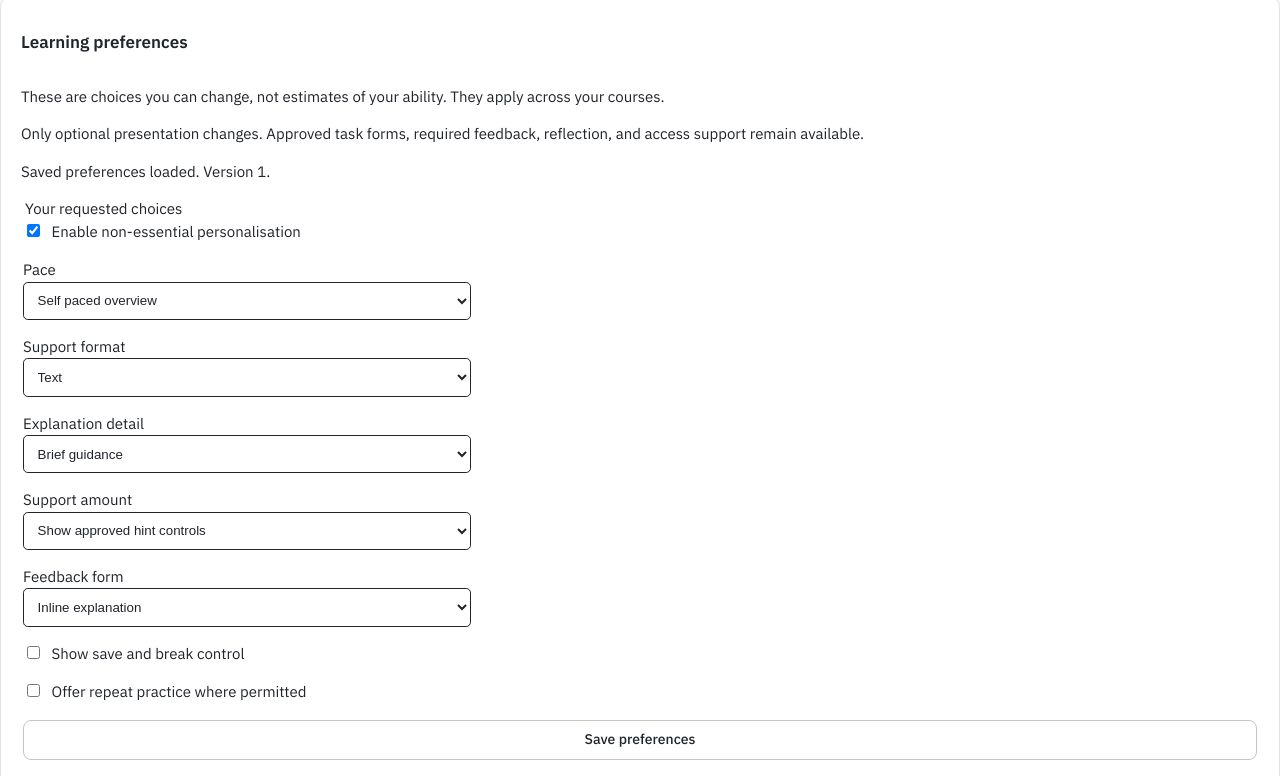
it: restores settings, keeps failed draft and request key, saves and resets without erasing history
expect the text "Saved preferences loaded. Version 1." is shown: met, box [21, 162, 270, 181]
Step 1. Select "Stepwise workspace guide" in the dropdown labelled "Pace" → coordinates (247, 301), box [23, 282, 471, 320]
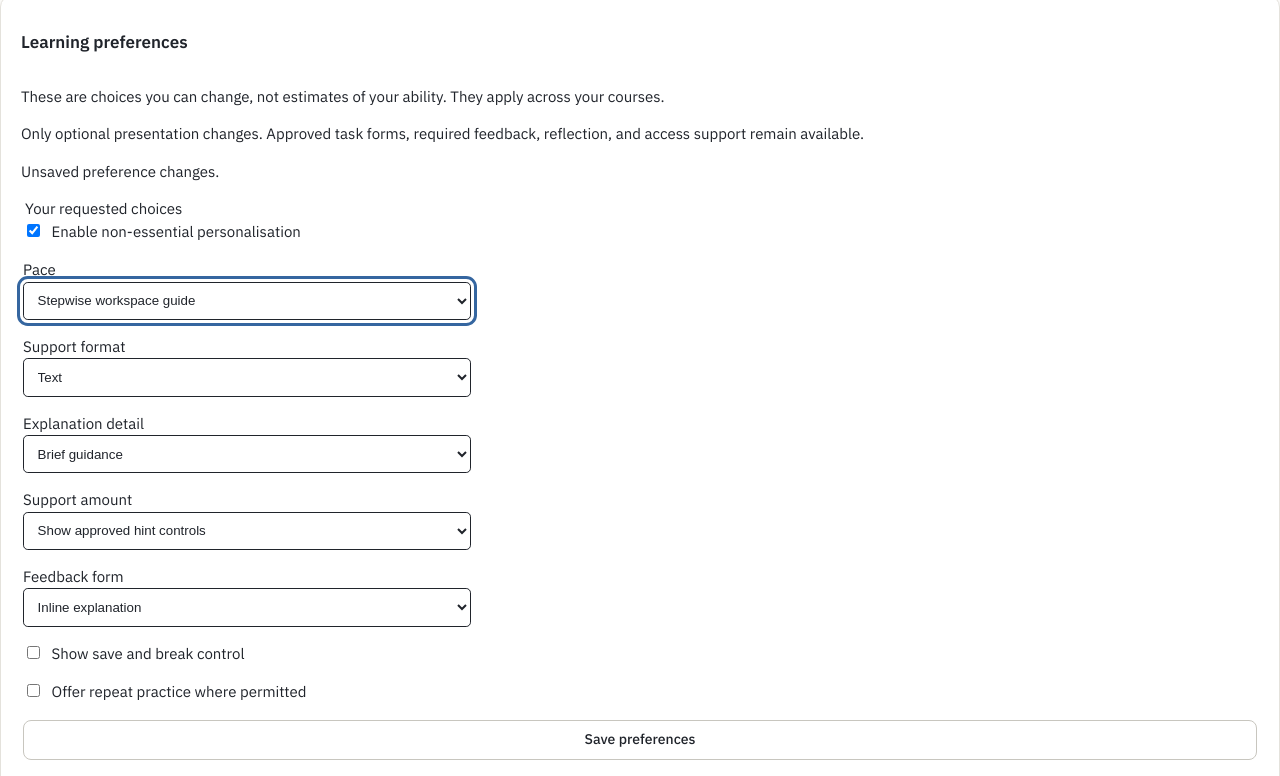
Step 2. Click the button "Save preferences" → coordinates (640, 740), box [23, 720, 1257, 760]
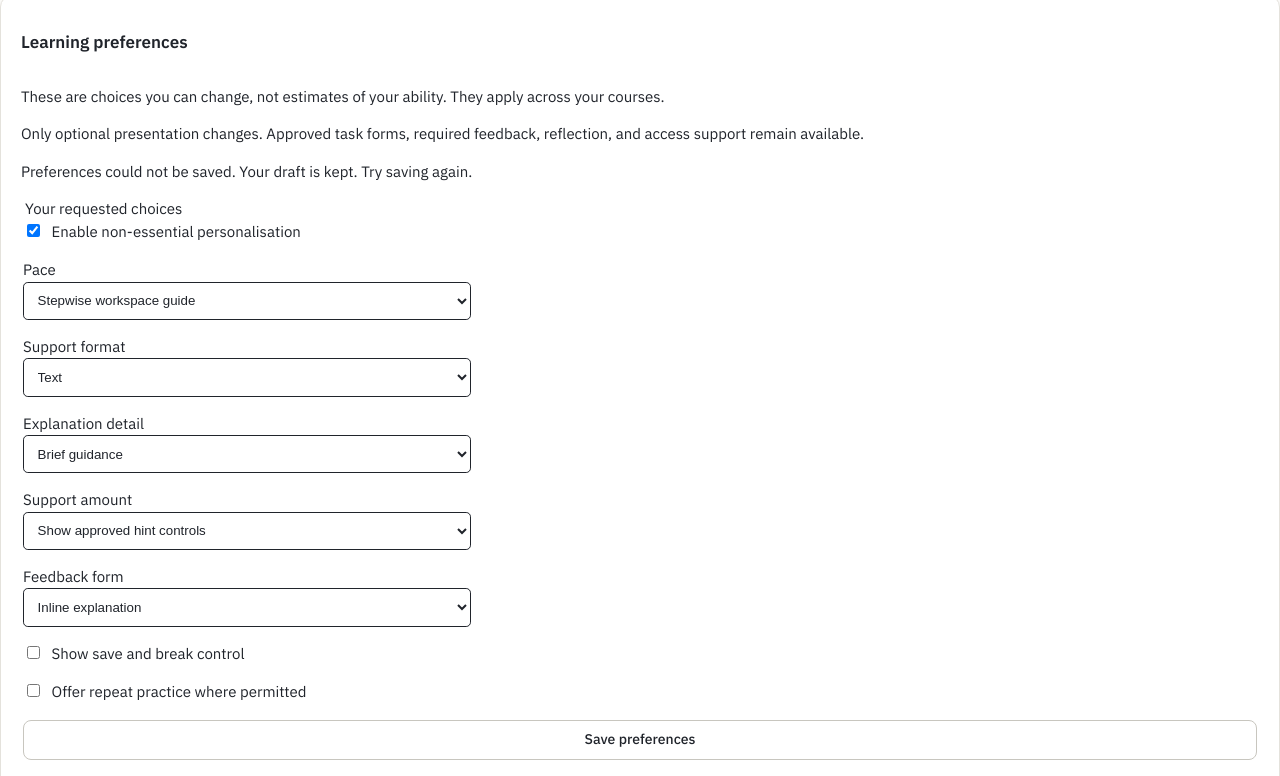
expect the text "Preferences could not be saved. Your draft is kept. Try saving again." is shown: met, box [21, 162, 472, 181]
Step 3. Click the button "Save preferences" → coordinates (640, 740), box [23, 720, 1257, 760]
(page scrolled)
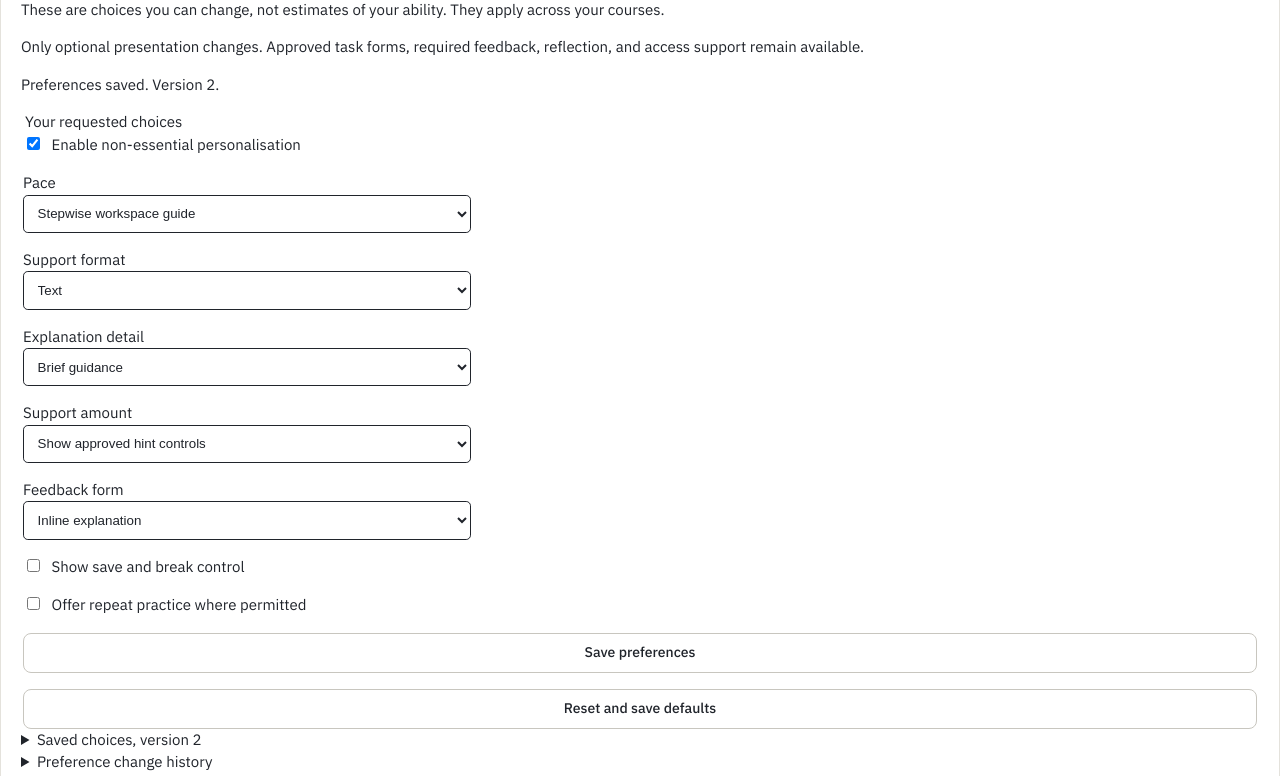
expect the text "Preferences saved. Version 2." is shown: met, box [21, 75, 219, 94]
Step 4. Click the button "Reset and save defaults" → coordinates (640, 709), box [23, 689, 1257, 729]
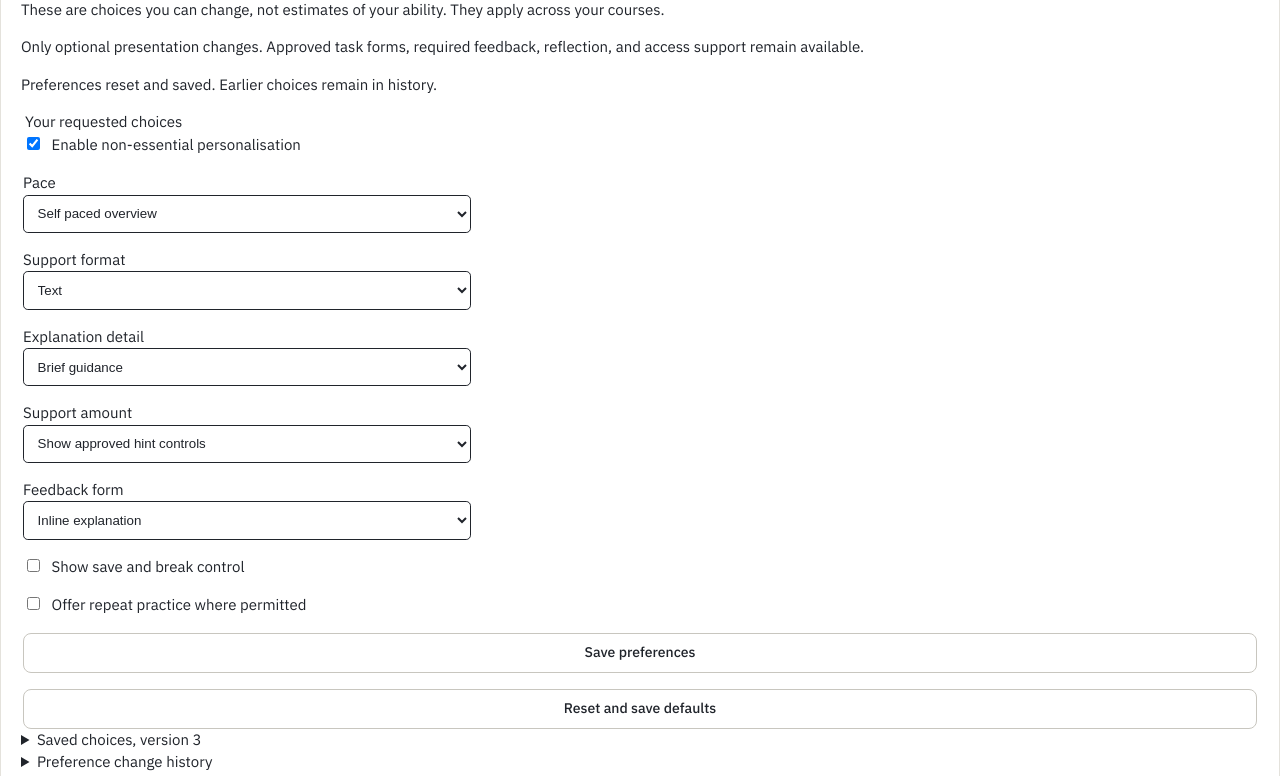
expect the text "Preferences reset and saved. Earlier choices remain in history." is shown: met, box [21, 75, 437, 94]
Step 5. Click the heading "Preference change history" → coordinates (125, 762), box [37, 752, 212, 771]
(page scrolled)
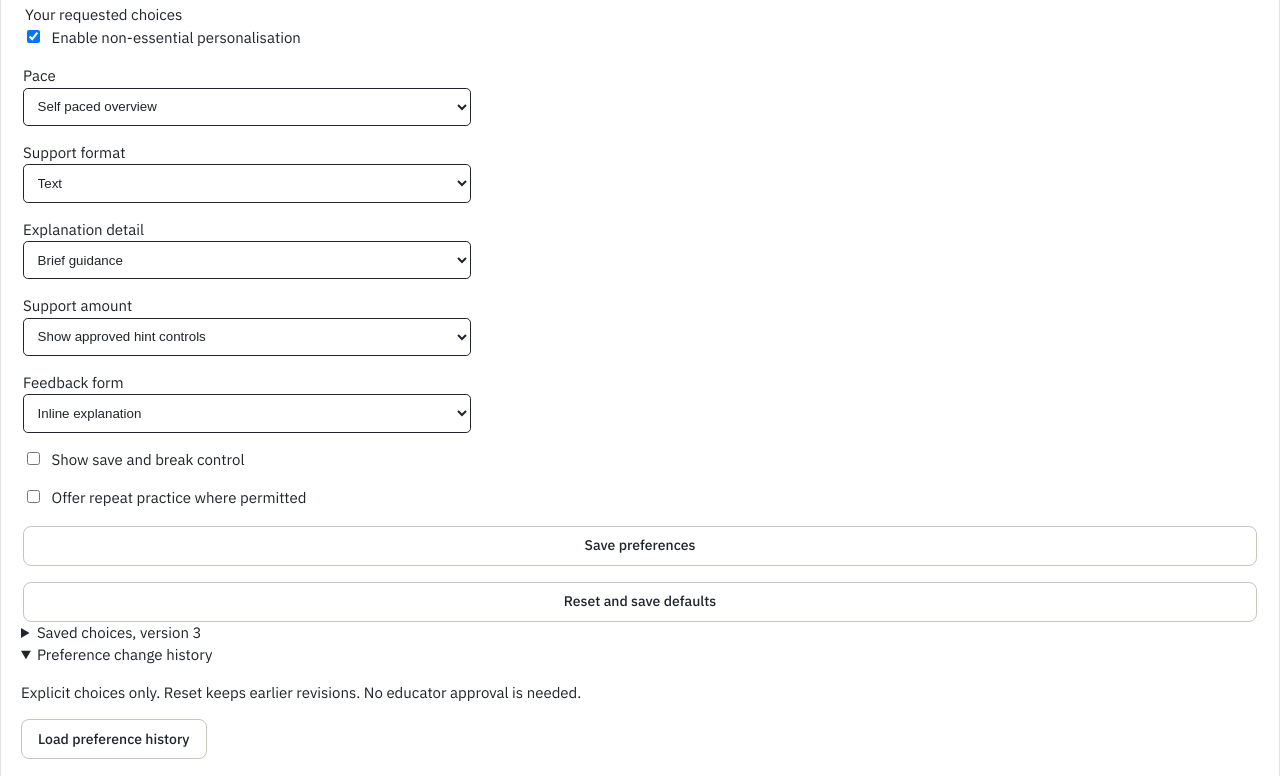
Step 6. Click the button "Load preference history" → coordinates (114, 739), box [21, 719, 207, 759]
(page scrolled)
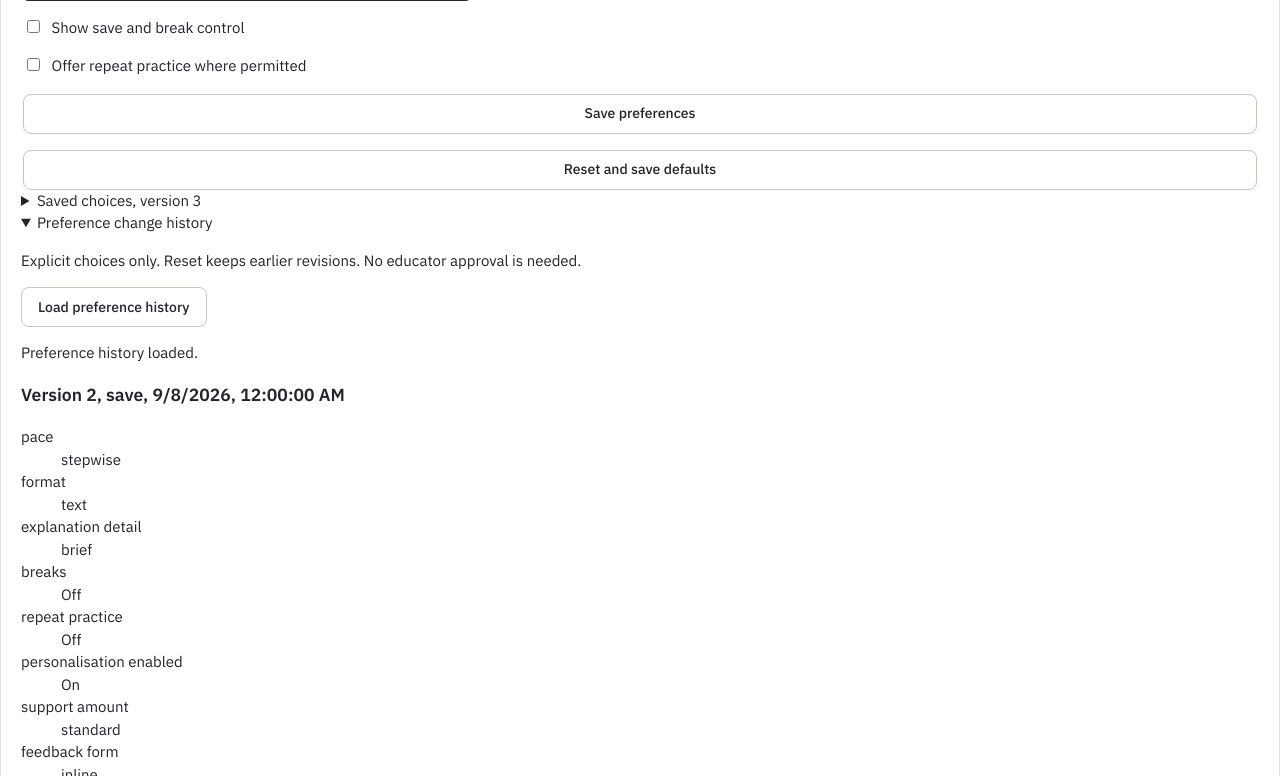
expect the heading "Version 2, save, 9/8/2026, 12:00:00 AM" is shown: met, box [21, 383, 345, 406]
